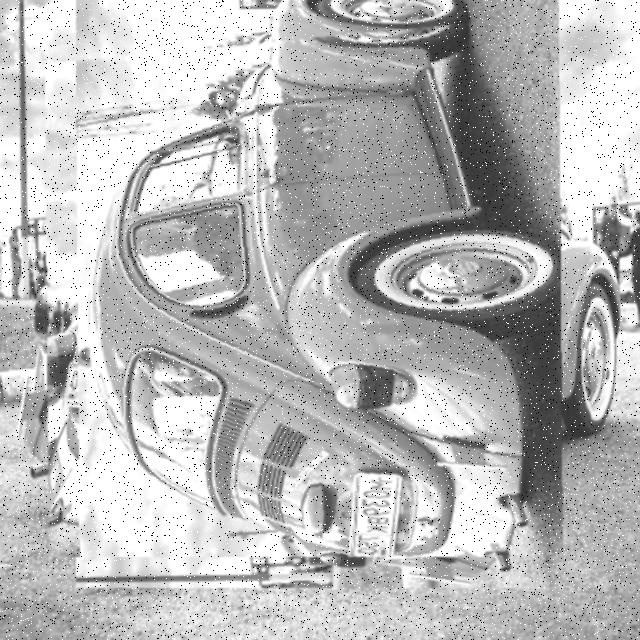car: (46, 12, 592, 558)
